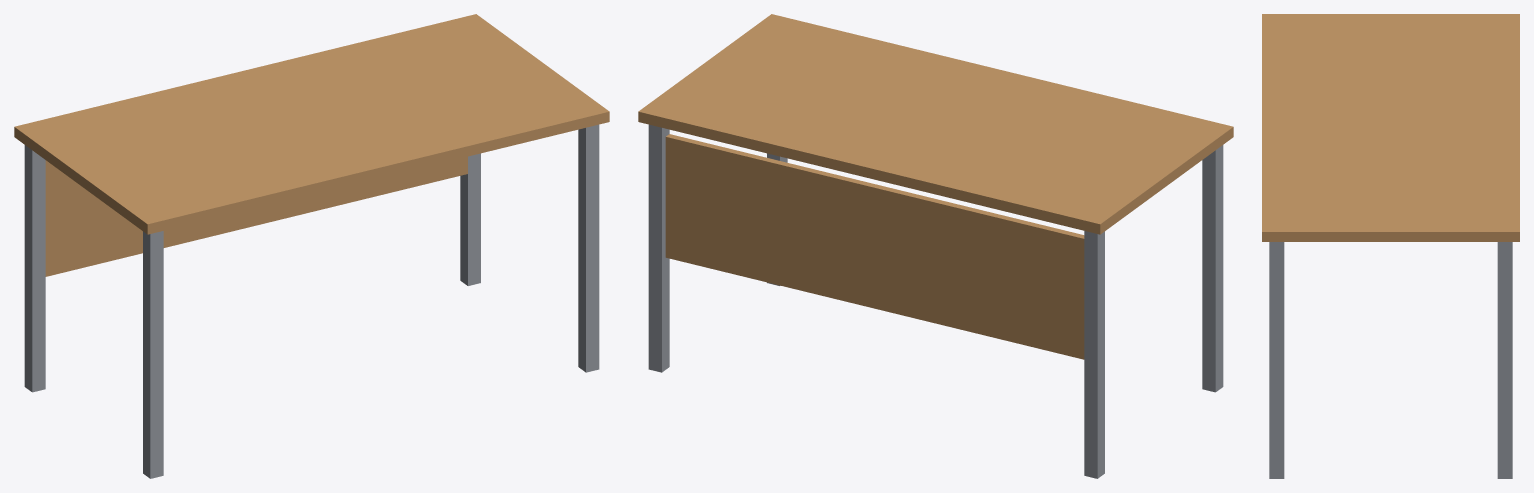
The model's file is desk.obj.
The picture shows the model from 3 angles, left to right: view 1: azimuth 30°, elevation 25°; view 2: azimuth 150°, elevation 25°; view 3: azimuth 270°, elevation 25°; orthographic projection. The views are drawn at different scales.
Parts seen in each view (by area): view 1: desk; view 2: desk; view 3: desk.
Boxes of the visible parts, bbox=[...] form: desk: bbox=[14, 14, 609, 478]; desk: bbox=[638, 14, 1233, 478]; desk: bbox=[1262, 14, 1519, 478].
Bounding box in the file's own units: 1.4 × 0.75 × 0.7.
